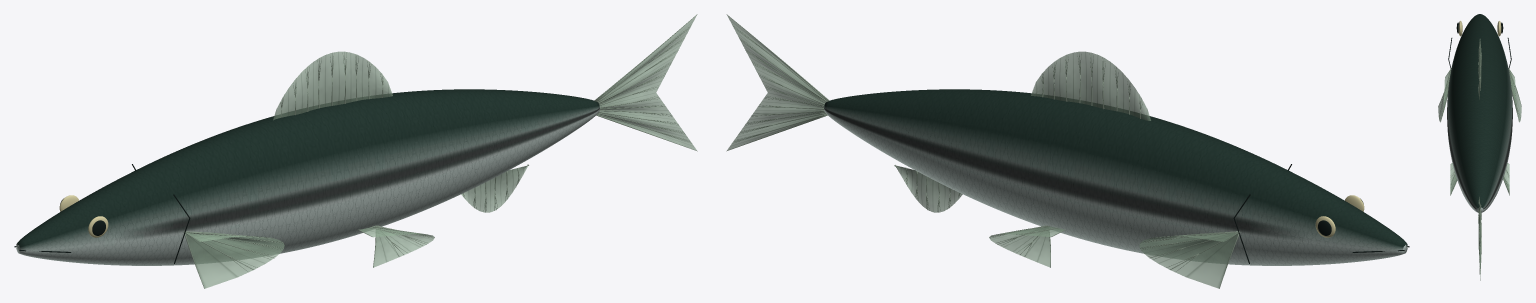
Rendered from minnow.glb.
The picture shows the model from 3 angles, left to right: view 1: azimuth 30°, elevation 25°; view 2: azimuth 150°, elevation 25°; view 3: azimuth 270°, elevation 25°; orthographic projection. The views are drawn at different scales.
Parts seen in each view (by area): view 1: minnow specimen; view 2: minnow specimen; view 3: minnow specimen.
Part boxes in pixels (box(x1,y1,x2,y2)): minnow specimen: box(14, 14, 697, 288); minnow specimen: box(726, 14, 1409, 288); minnow specimen: box(1438, 14, 1521, 280).
Size of the model in its own units: 1.97 by 0.5652 by 0.3107.
7 materials, 4 textured.
